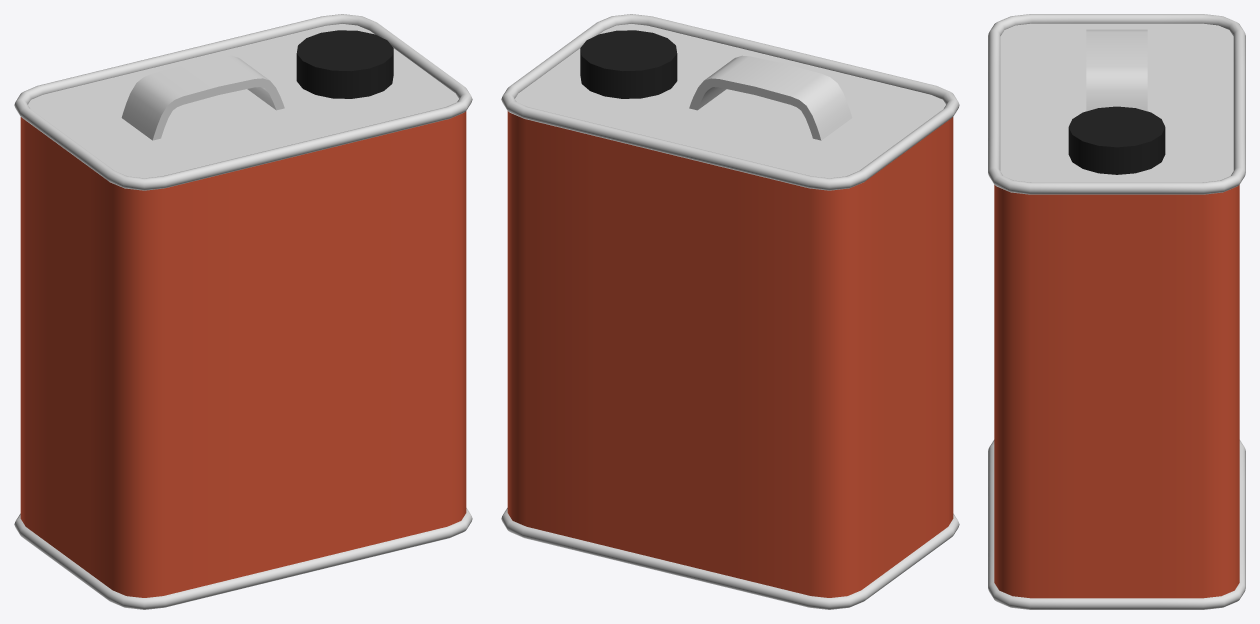
The model's file is GasolineCan v01.fbx.
The picture shows the model from 3 angles, left to right: view 1: azimuth 30°, elevation 25°; view 2: azimuth 150°, elevation 25°; view 3: azimuth 270°, elevation 25°; orthographic projection.
Parts seen in each view (by area): view 1: gasoline_can; view 2: gasoline_can; view 3: gasoline_can.
Part boxes in pixels (x1,y1,x2,y2): gasoline_can: [14, 14, 472, 609]; gasoline_can: [501, 14, 959, 609]; gasoline_can: [988, 14, 1245, 609].
Size of the model in its own units: 127 by 156 by 79.49.
